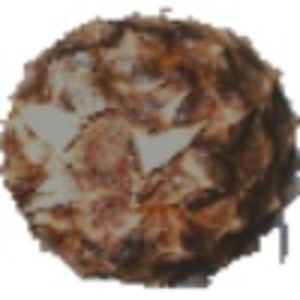abacaxi: (10, 12, 294, 282)
